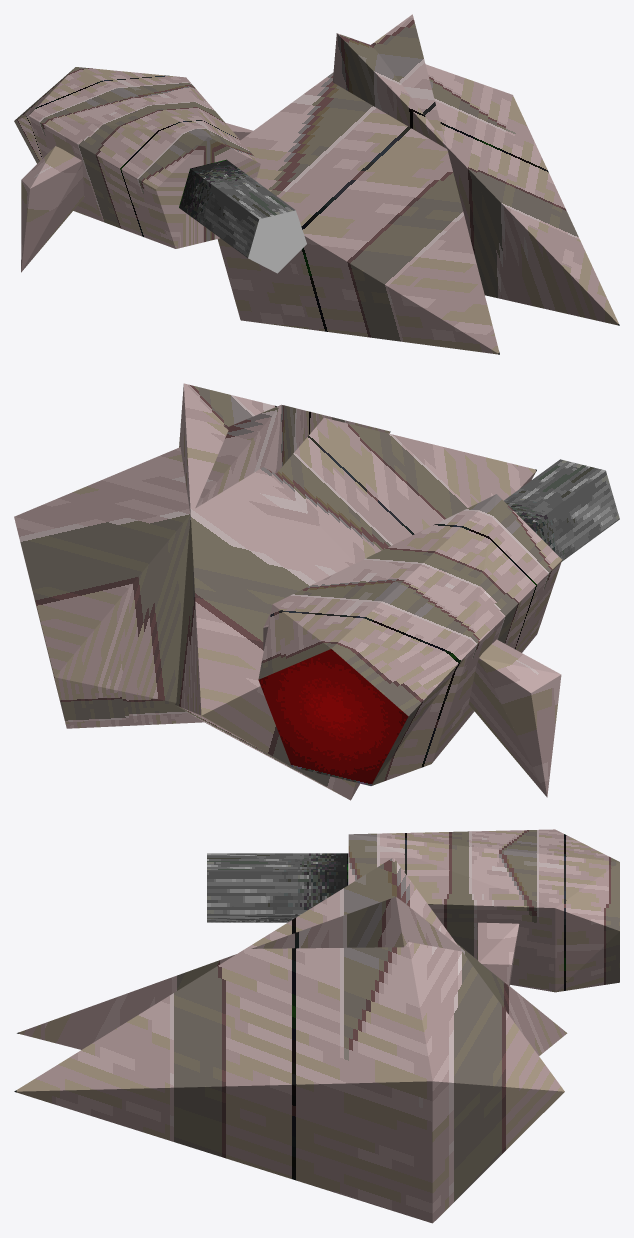
The model's file is model_020_robot_noname.glb.
3 views of the same model, one above another, from view 1: azimuth 30°, elevation 25°; view 2: azimuth 150°, elevation 25°; view 3: azimuth 270°, elevation 25° (orthographic). The views are drawn at different scales.
Parts seen in each view (by area): view 1: model_020; view 2: model_020; view 3: model_020.
Boxes of the visible parts, left/top/right/bottom form: model_020: left=14, top=14, right=619, bottom=354; model_020: left=14, top=383, right=619, bottom=800; model_020: left=14, top=829, right=619, bottom=1223.
Bounding box in the file's own units: 6.19 × 3.64 × 6.88.
4 materials, 3 textured.
